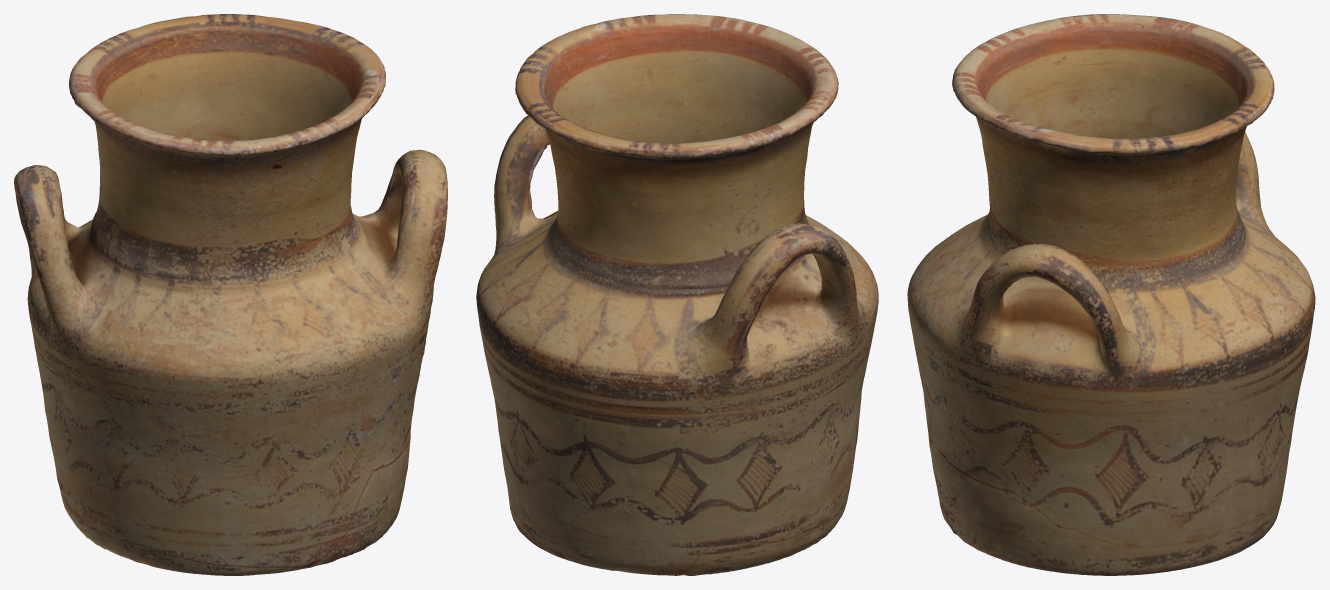
File: Alavastro.fbx
3 views of the same model, side by side, from view 1: azimuth 30°, elevation 25°; view 2: azimuth 150°, elevation 25°; view 3: azimuth 270°, elevation 25° (orthographic).
Parts seen in each view (by area): view 1: Alavastro-Sony; view 2: Alavastro-Sony; view 3: Alavastro-Sony.
Part boxes in pixels (<box>): Alavastro-Sony: <box>14,14,447,575</box>; Alavastro-Sony: <box>476,14,878,575</box>; Alavastro-Sony: <box>907,14,1315,575</box>.
Bounding box in the file's own units: 12.5 × 11.84 × 13.78.
Materials: 2 (2 with a texture image).
